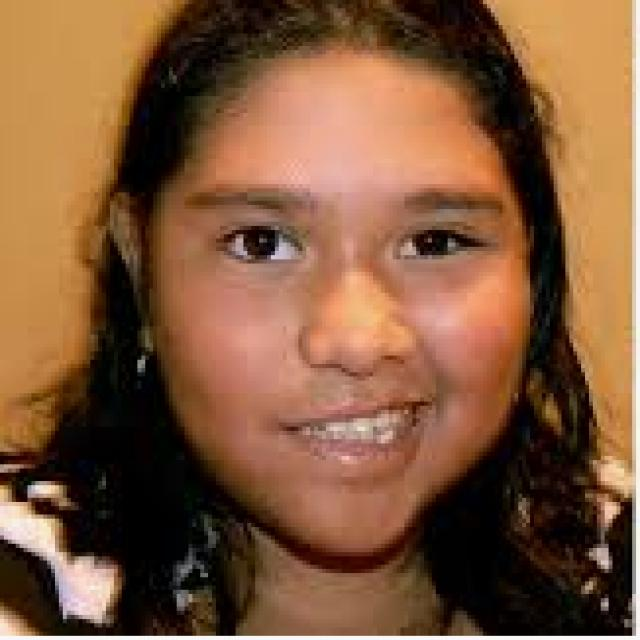stroke_face: (168, 18, 535, 558)
